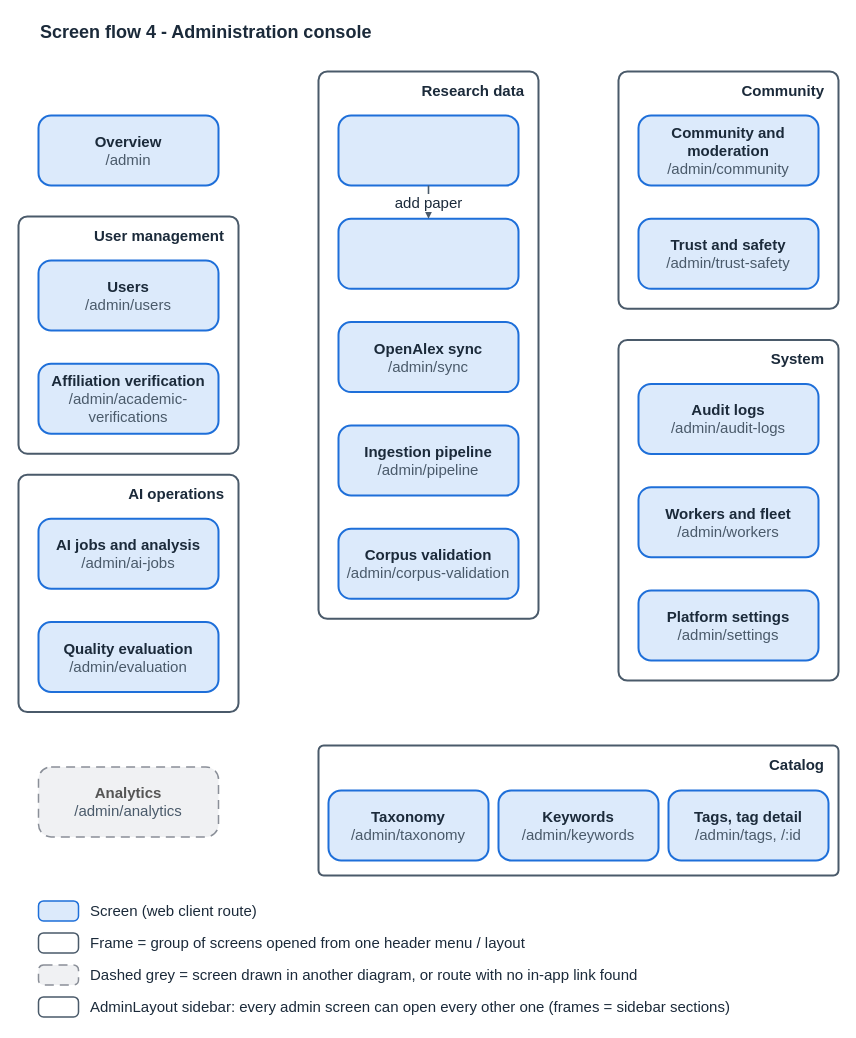
Some shapes in this 856 by 1038 pixel diagram are drawn without their labels. Here are the shapes that lost their labels. From the top down, the centre of each, then its label:
point 428,150: Papers in corpus /admin/papers
point 428,253: Add paper /admin/papers/new
